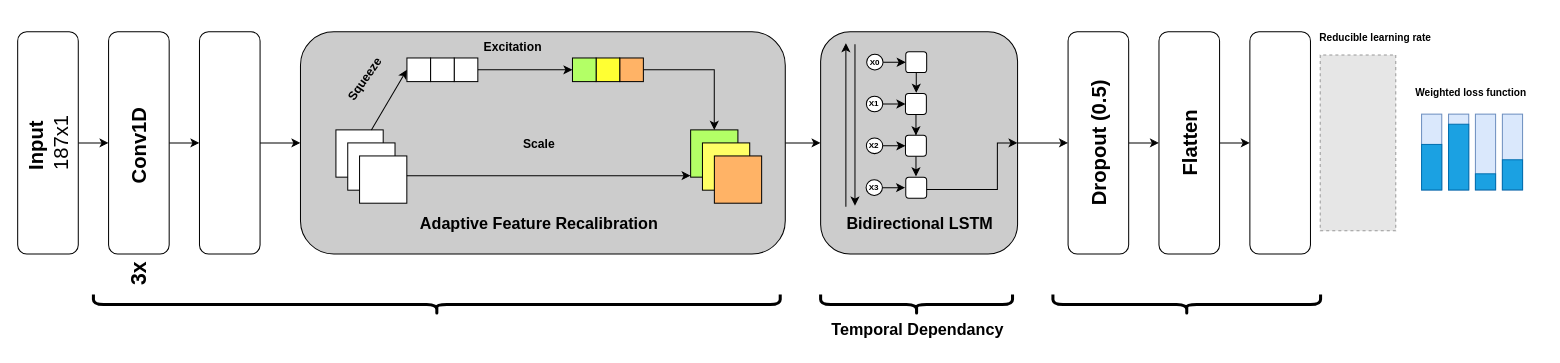
This 1560x363 diagram has some shape labels left out. Grey dashed boxes stand in for pictures. The shapes that lost their labels are listed below. From the top down, each one's box as (x1, y1, x2, y2) in pixels, then its label:
(198, 31, 260, 254): Max-pooling
(1249, 31, 1310, 254): Dense (5 class)
(91, 292, 781, 316): Feature Extraction
(1051, 292, 1322, 316): Classification
